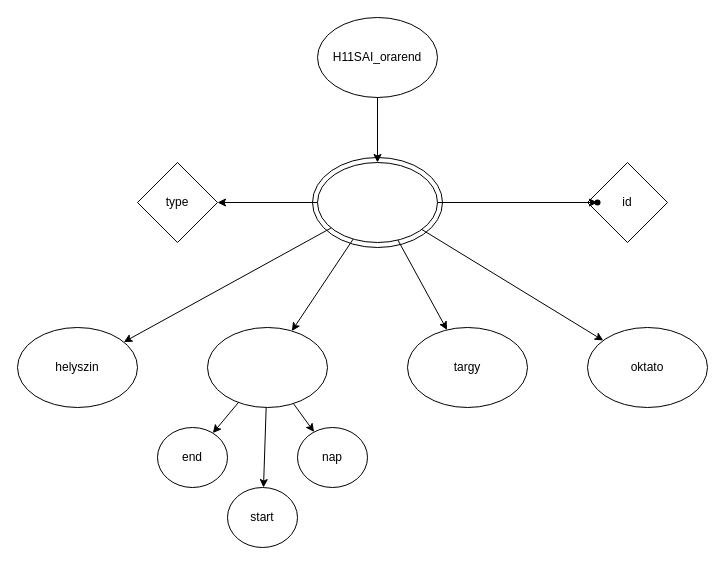
The diagram is 725 pixels wide and 565 high, and some of its shapes have lost their labels. The centre of each missing label's shape, as x and y in pixels:
idopont: the point at 267,367
ora: the point at 377,202
